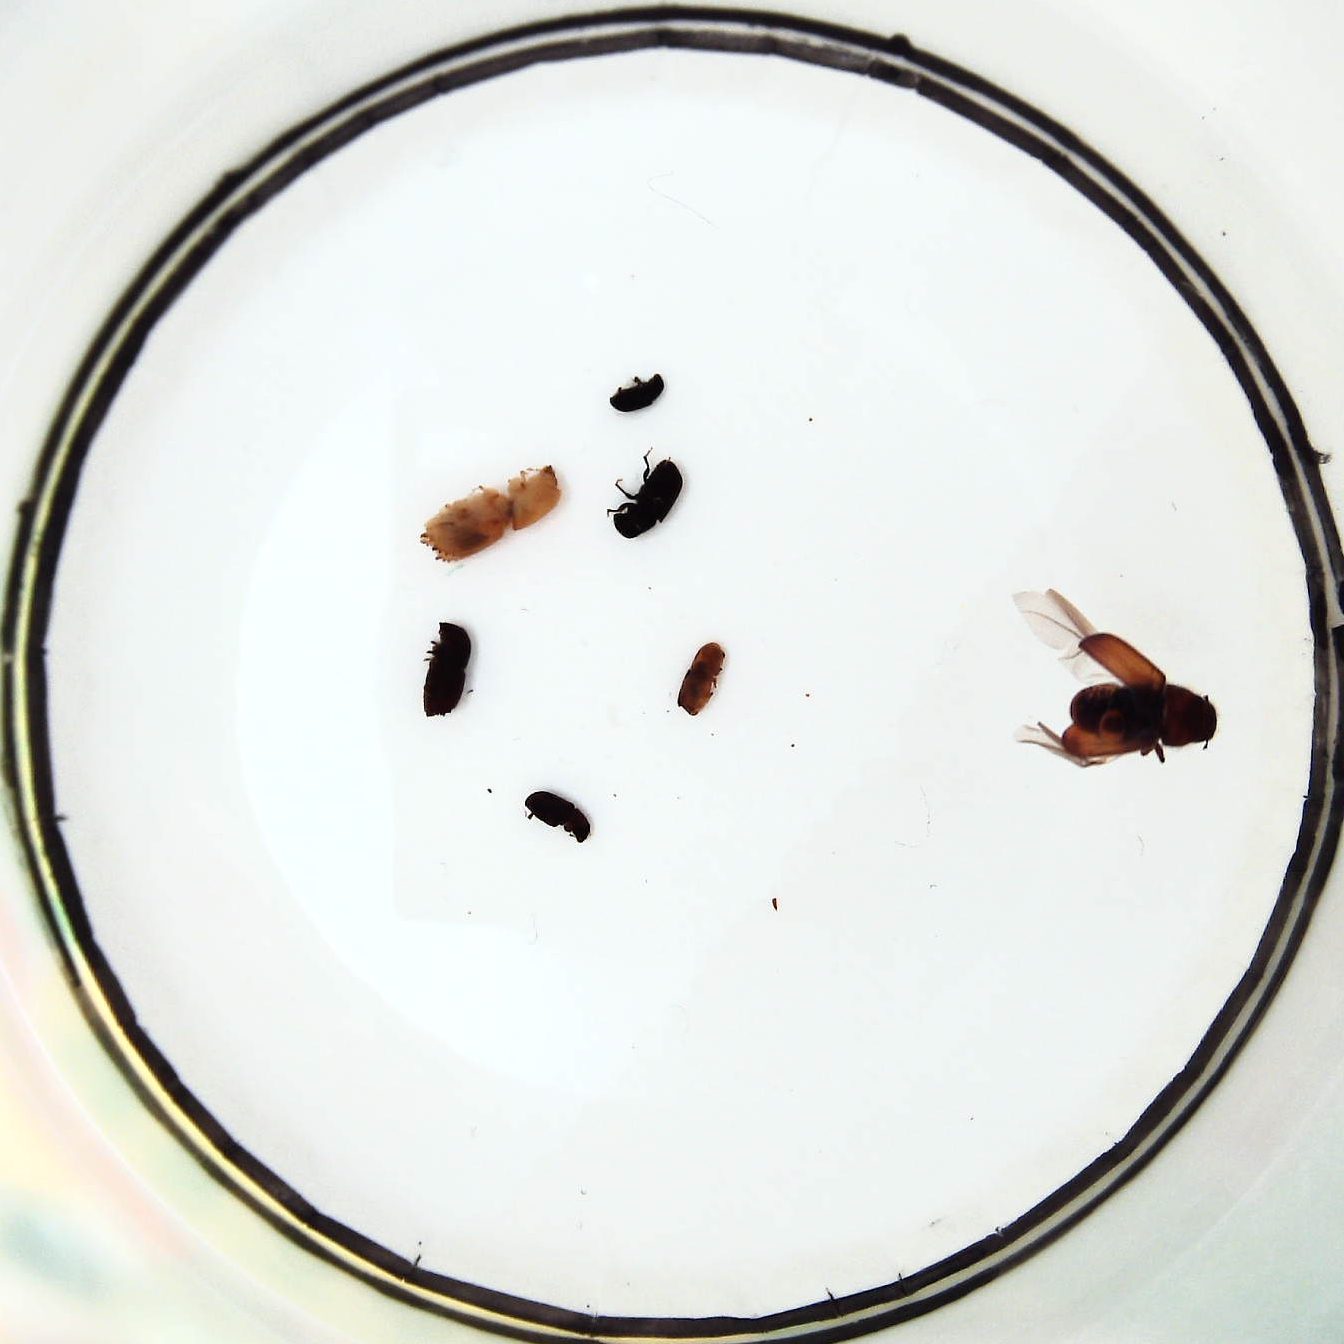Boerner: (423, 466, 559, 569)
Leconte: (1044, 630, 1218, 761)
Linnaeus: (423, 620, 469, 720)
acuminatus: (678, 642, 726, 720)
armandi: (606, 460, 682, 539)
coleoptera: (521, 791, 590, 844), (612, 372, 665, 417)
